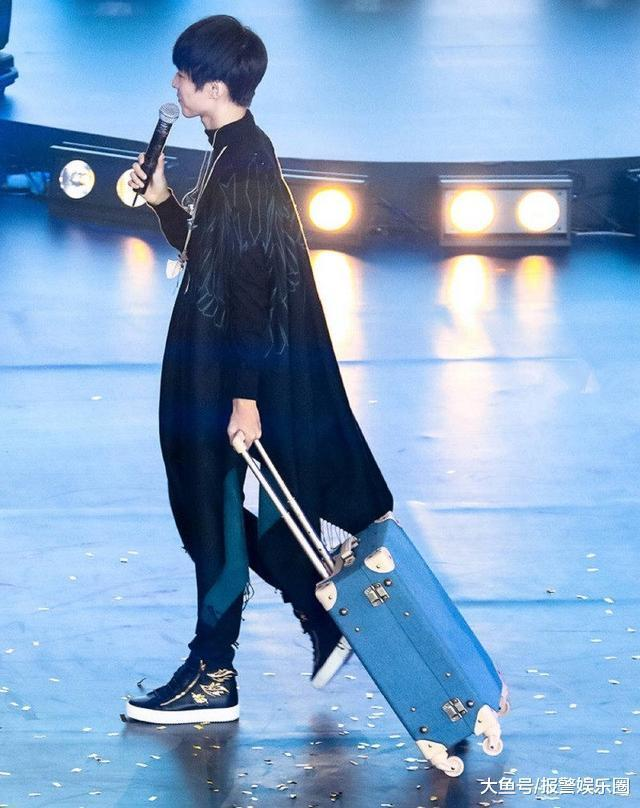box: (315, 510, 503, 764)
handle: (340, 536, 359, 567)
wheel: (442, 755, 464, 777), (481, 736, 504, 757)
